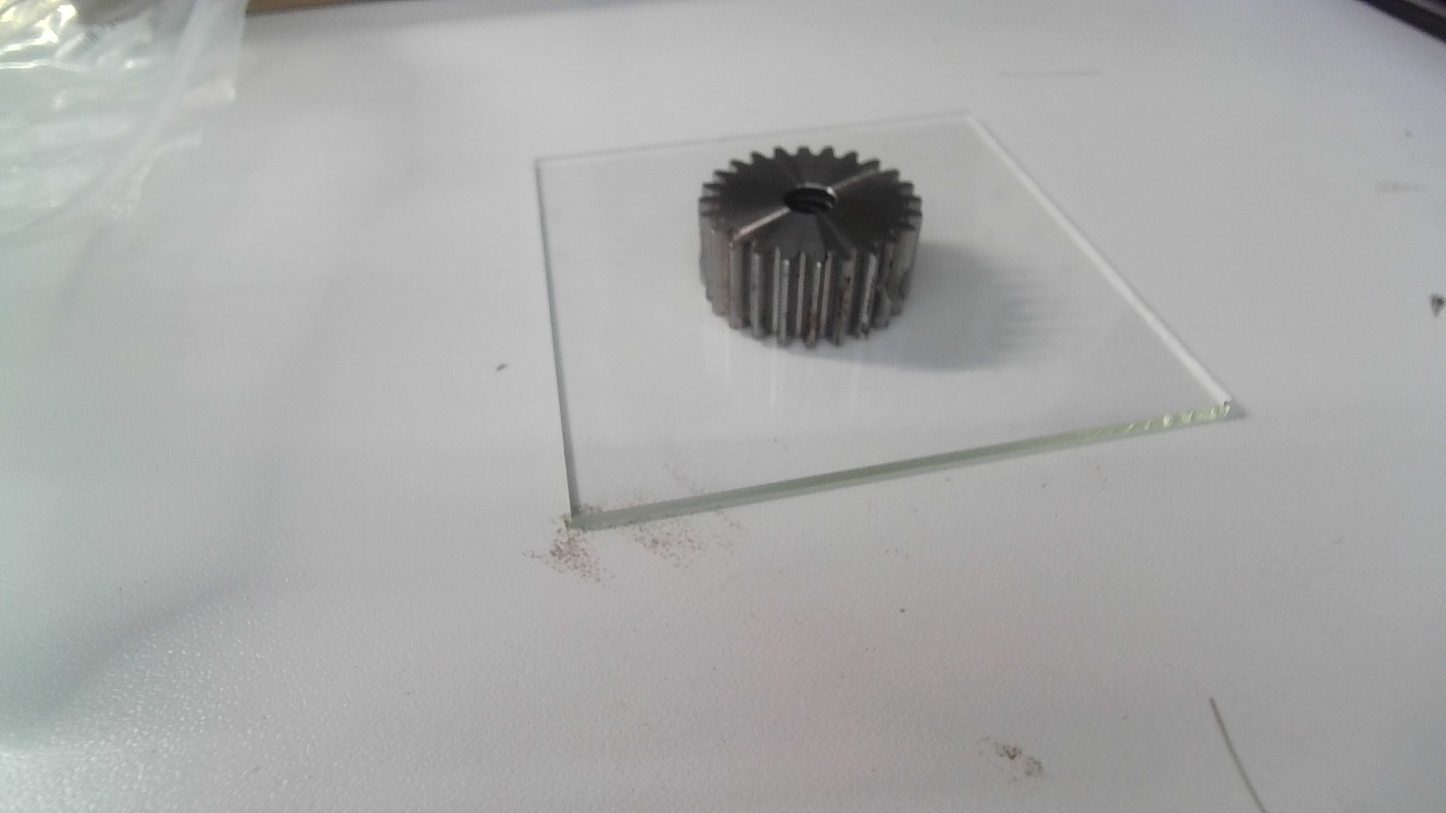gear: (692, 144, 927, 354)
